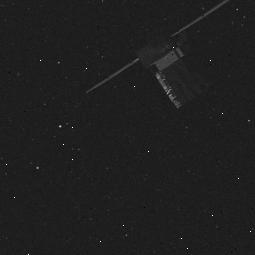soho: (124, 8, 211, 119)
